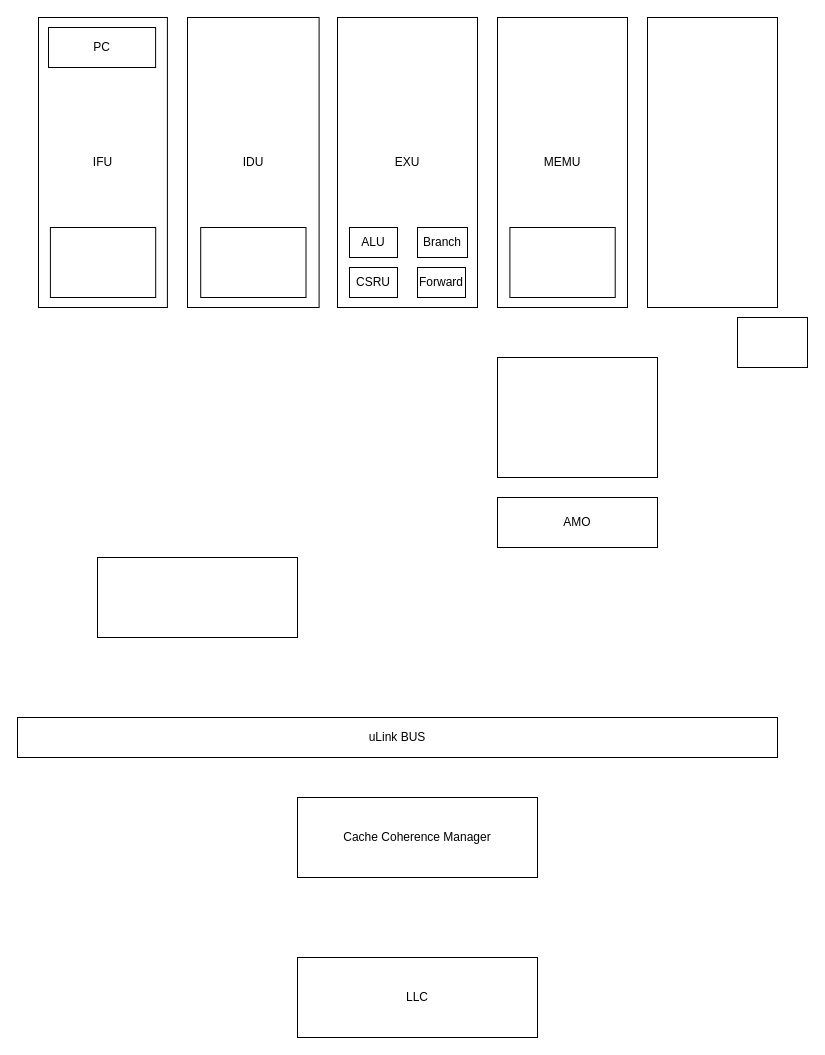
The diagram is 825 pixels wide and 1055 high, and some of its shapes have lost their labels. Each missing label, with the centre of its shape:
BIU (Bus Interface Unit): the point at 197,597
D$: the point at 562,262
Debug: the point at 772,342
I$: the point at 102,262
MMU: the point at 577,417
WBU: the point at 712,162
X0-31 (Regfile): the point at 253,262
